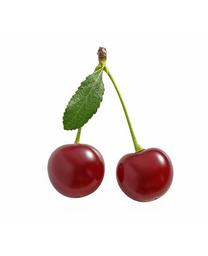cherry: (115, 145, 174, 201), (47, 143, 105, 199)
